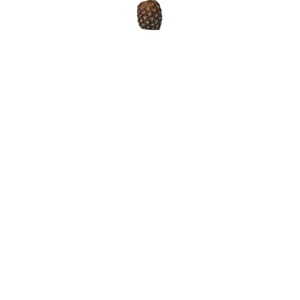abacaxi: (136, 2, 163, 34)
